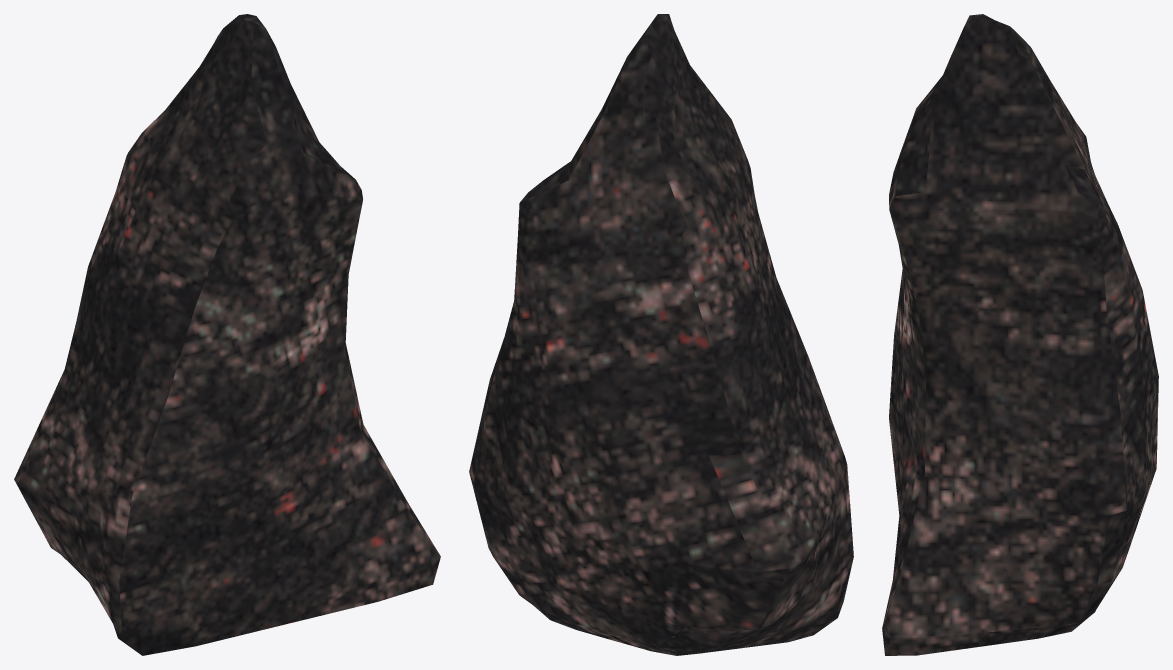
The model's file is ChunkySpike.glb.
3 views of the same model, side by side, from view 1: azimuth 30°, elevation 25°; view 2: azimuth 150°, elevation 25°; view 3: azimuth 270°, elevation 25° (orthographic).
Parts seen in each view (by area): view 1: Cube; view 2: Cube; view 3: Cube.
Part boxes in pixels (x1,y1,x2,y2): Cube: (14, 14, 440, 655); Cube: (469, 14, 853, 655); Cube: (882, 14, 1158, 655).
Bounding box in the file's own units: 5.16 × 8.81 × 3.67.
1 material, 1 textured.
